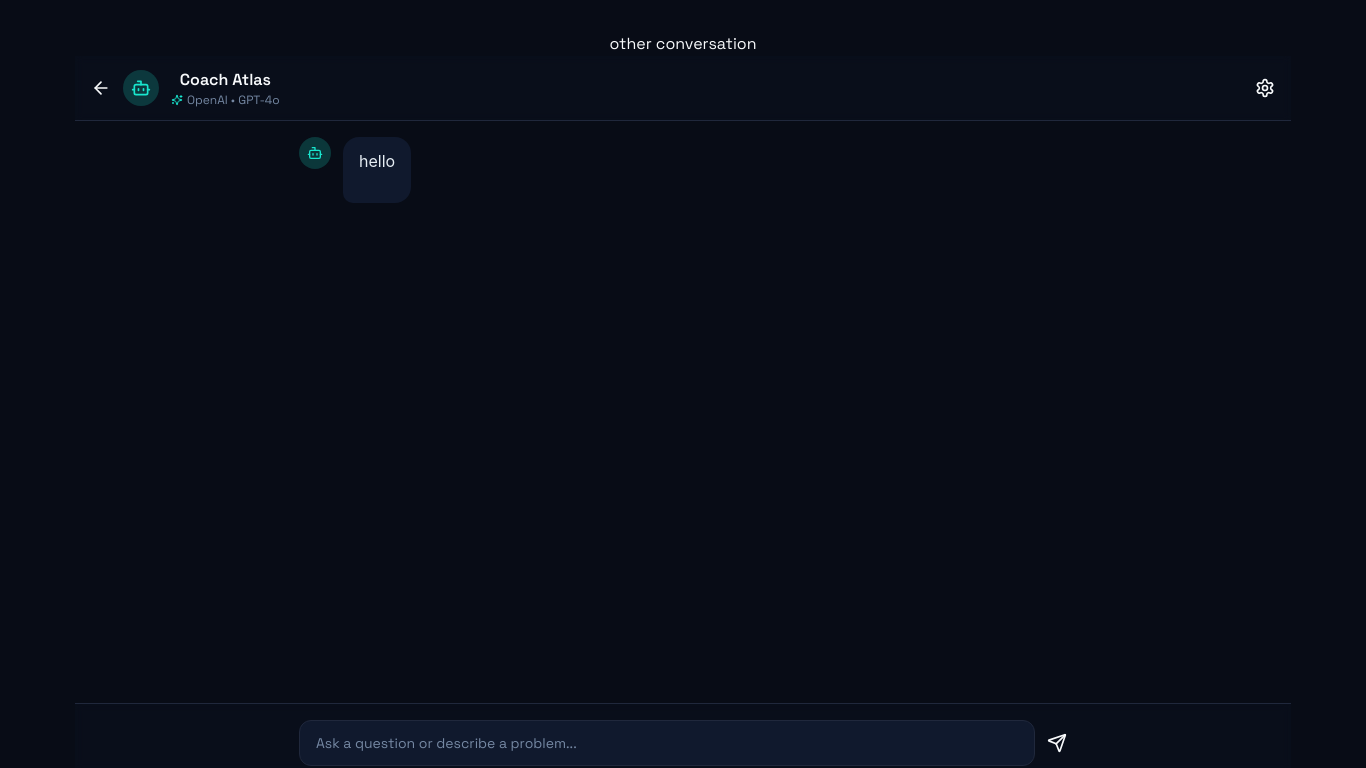
it: ChatPage stream cancellation › switching conversation aborts the stream and saves no partial reply
Type "my question" into the field with placeholder "Ask a question or describe a problem...". click: (667, 743)
box: left=299, top=720, right=1035, bottom=766
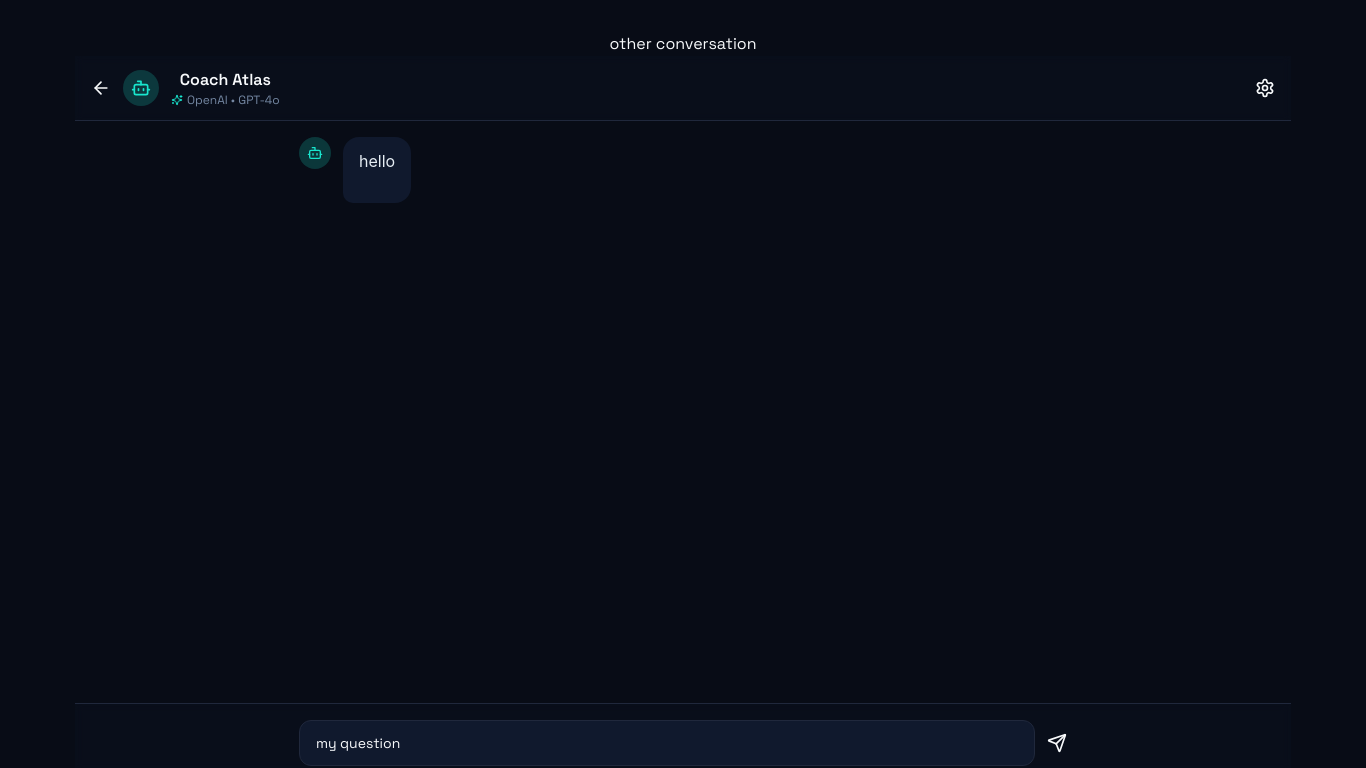
Press Enter in the field with placeholder "Ask a question or describe a problem...", box left=299, top=720, right=1035, bottom=766
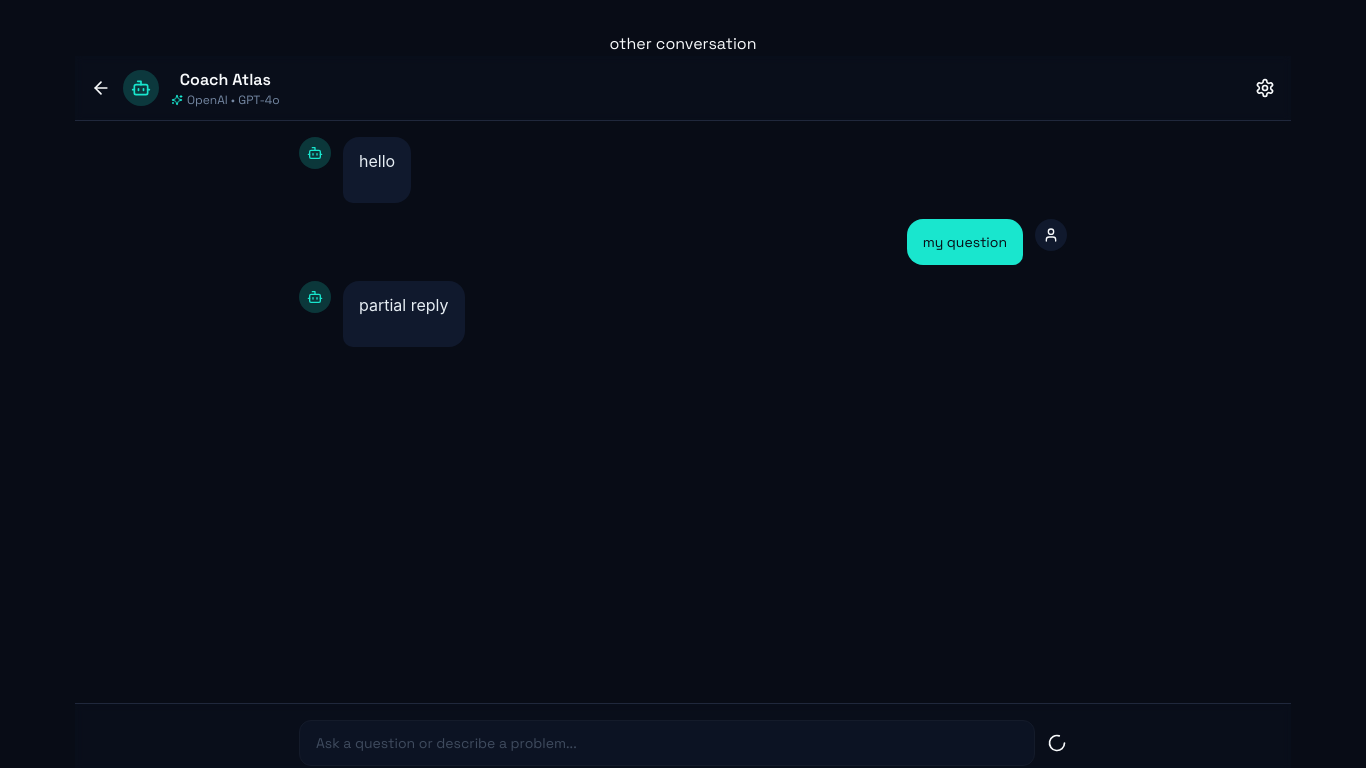
Now the text "partial reply" is shown, box left=359, top=293, right=448, bottom=319
Click the link "other conversation". click: (683, 44)
box: left=610, top=33, right=757, bottom=54
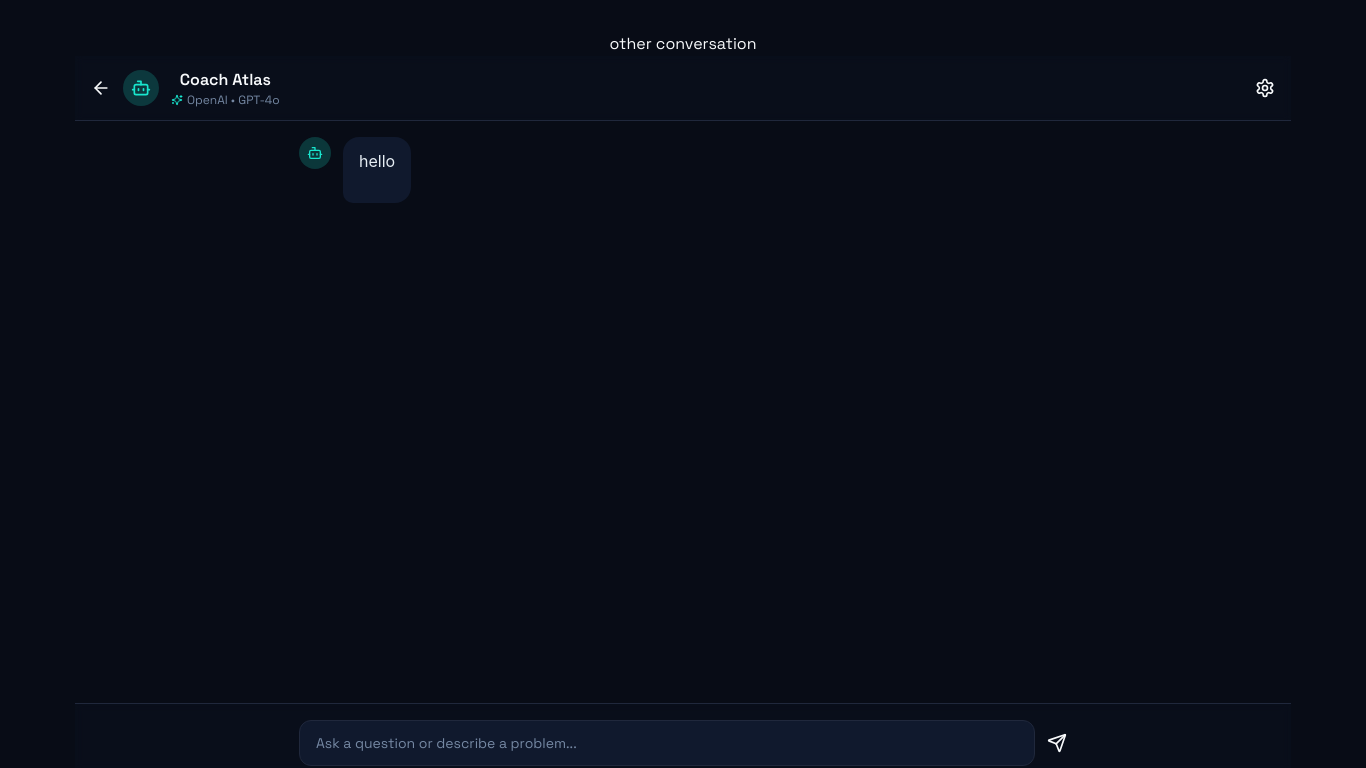
Now the text "partial reply" is gone
